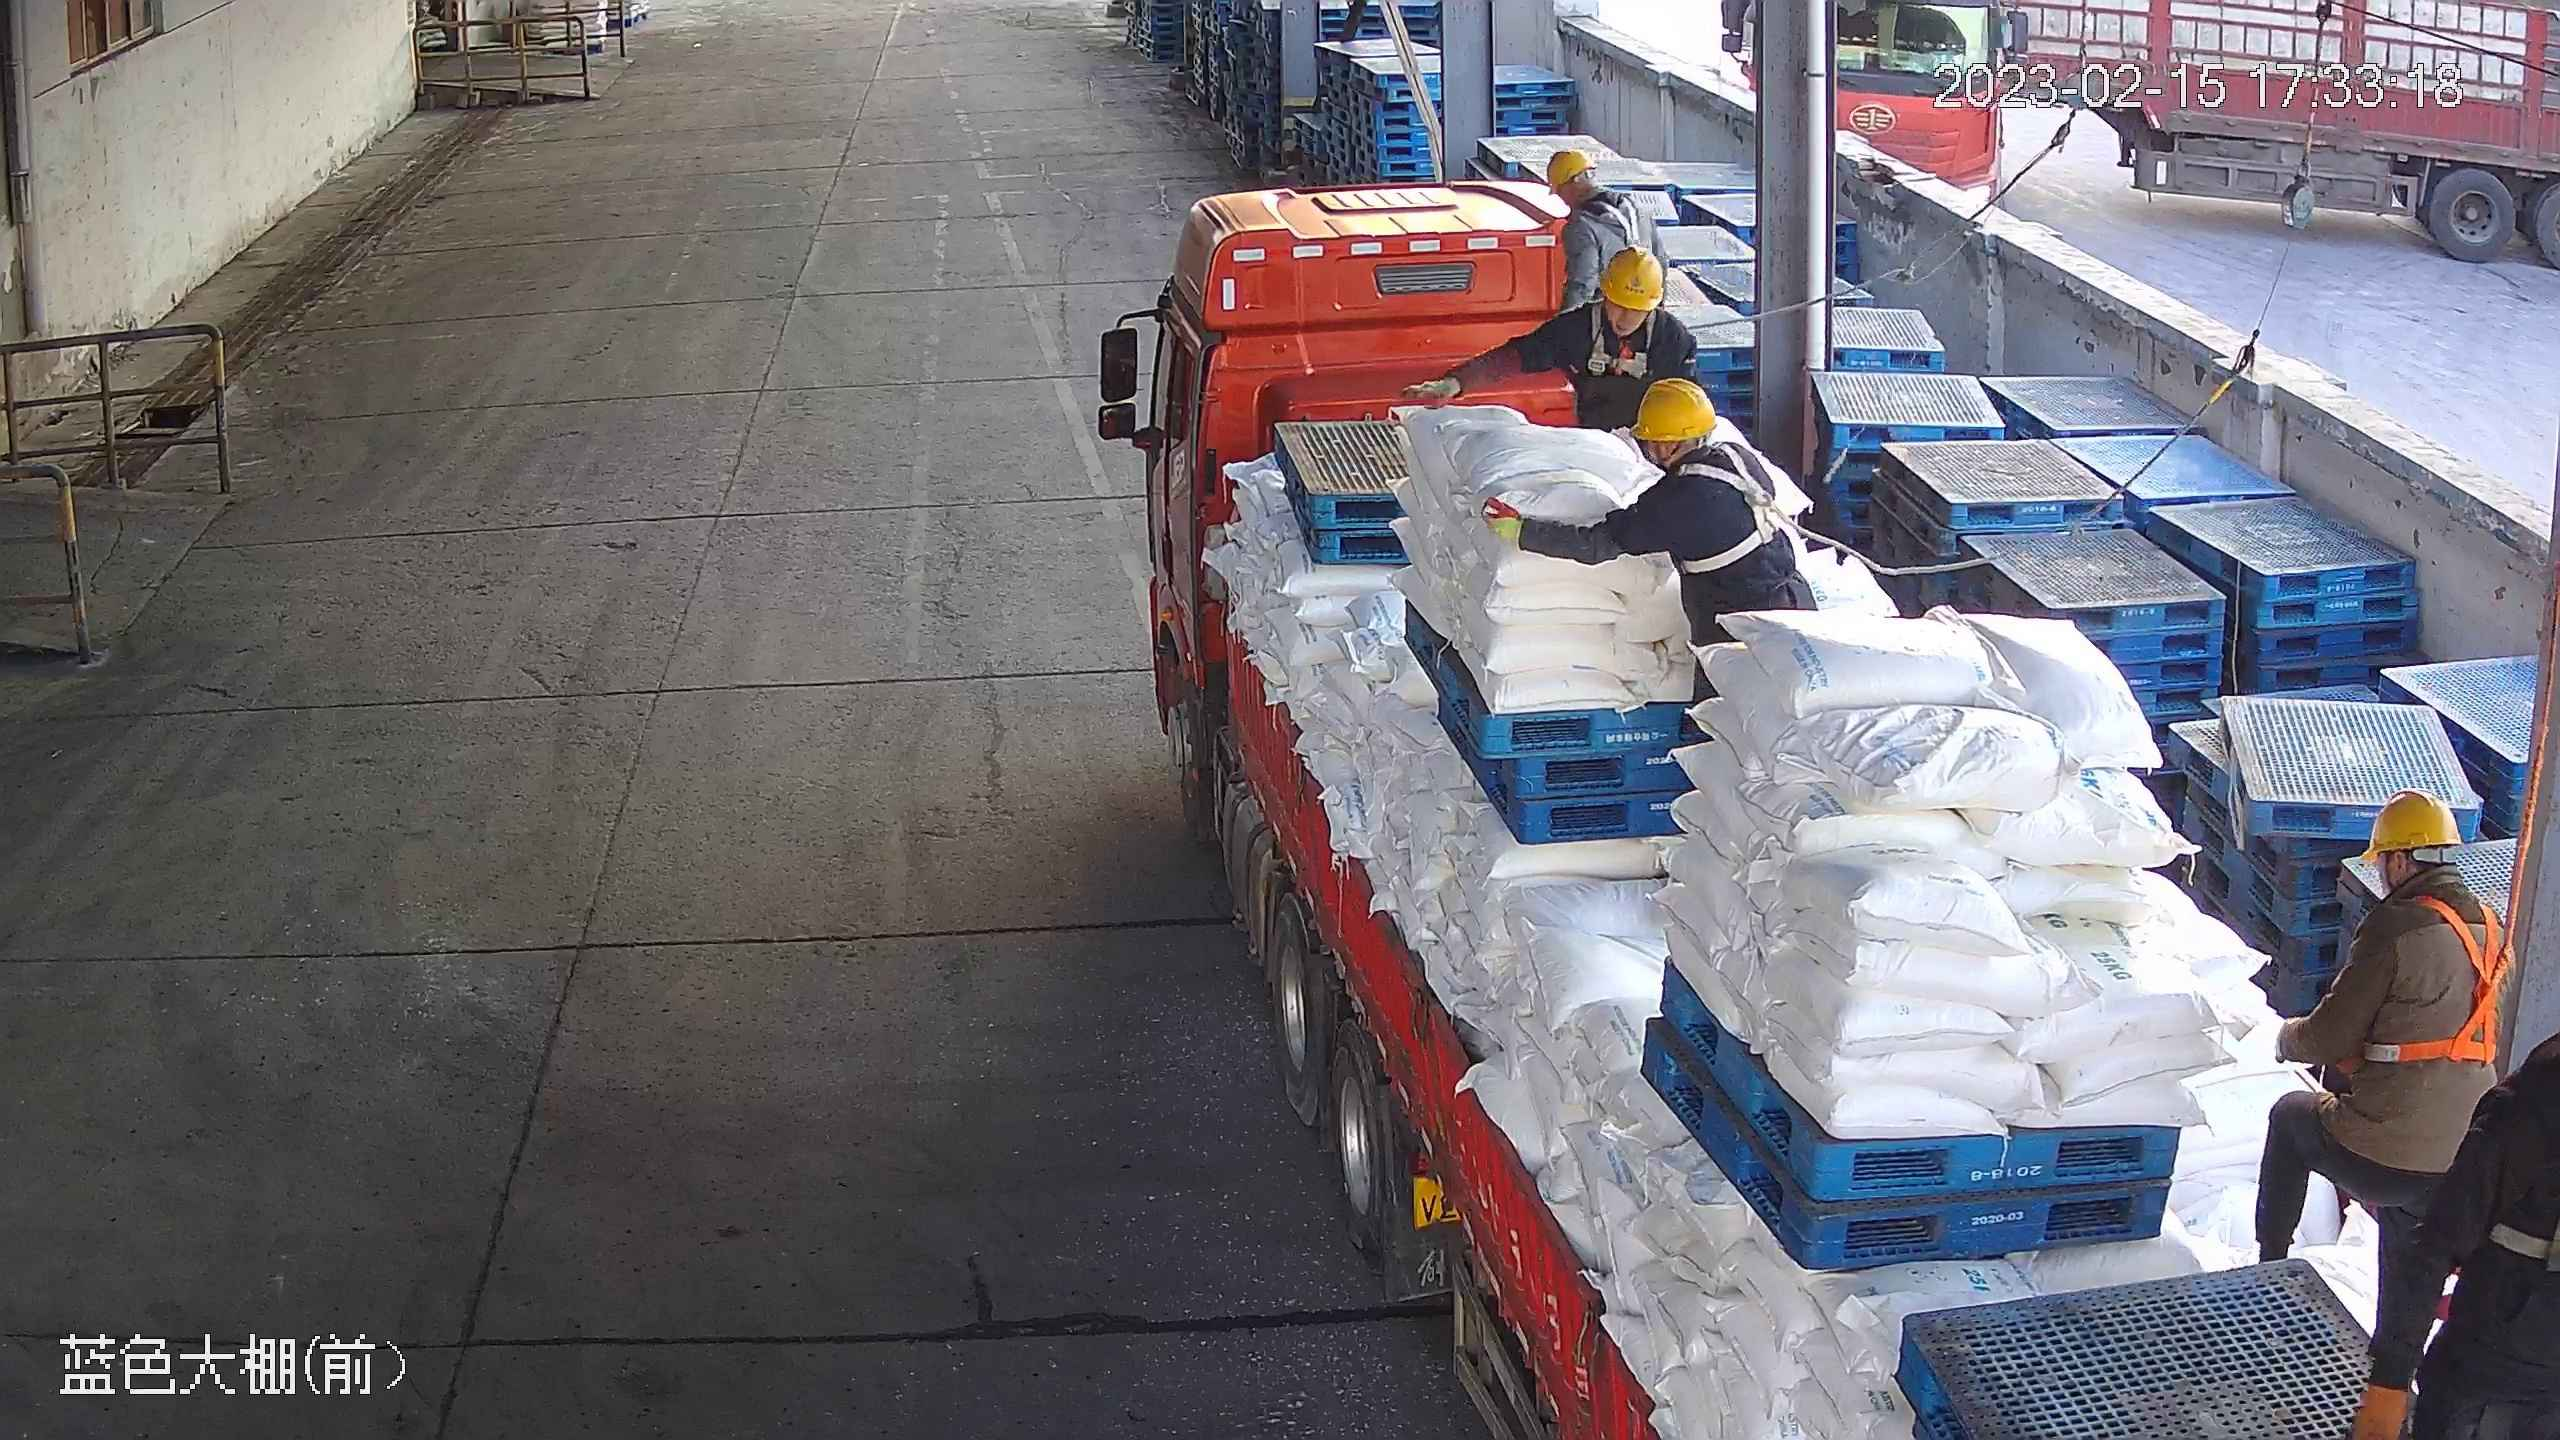belt: (2349, 883, 2533, 1073), (1661, 439, 1803, 575), (1569, 299, 1660, 384), (1580, 191, 1657, 266)
head: (2351, 789, 2514, 950), (1628, 381, 1780, 496), (1549, 247, 1698, 356), (1542, 150, 1659, 240)
helmet: (2358, 790, 2464, 863), (1629, 376, 1719, 442), (1595, 244, 1665, 314), (1546, 150, 1597, 195)
people: (2254, 789, 2510, 1416), (1481, 376, 1825, 741)
truck: (1141, 177, 2560, 1440)
